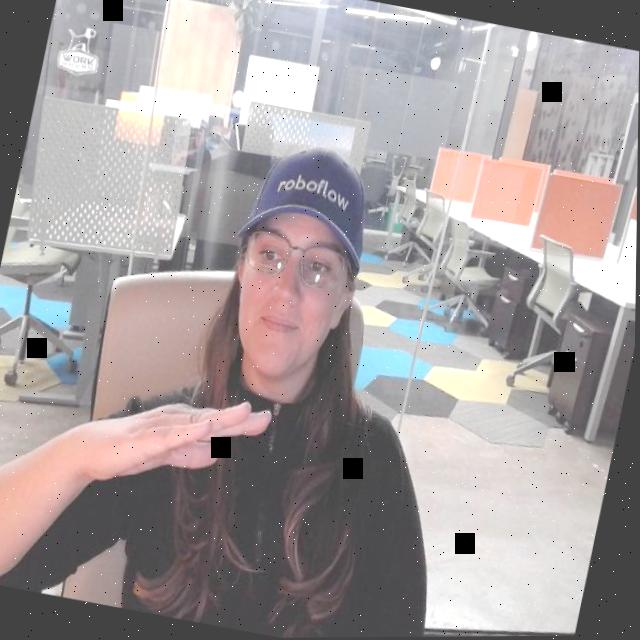Paper: (83, 361, 281, 508)
